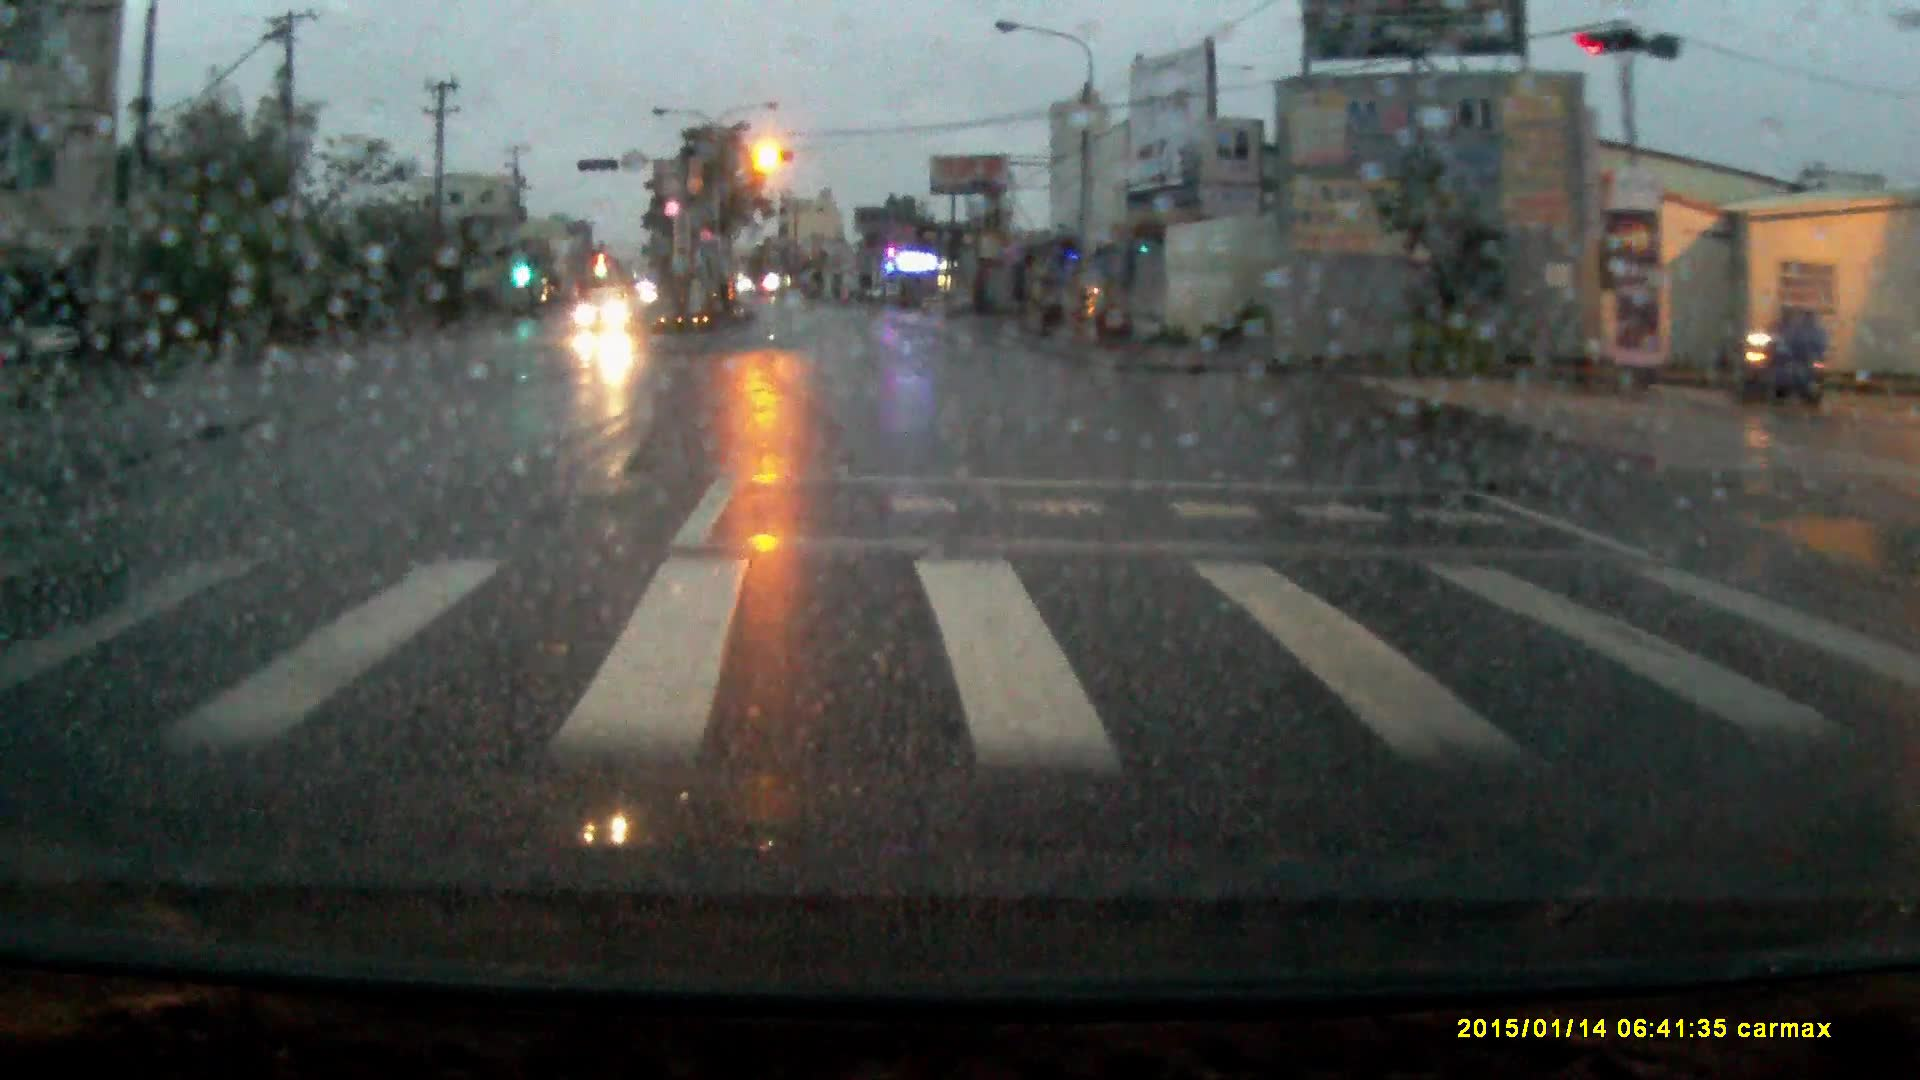rider: (1735, 294, 1834, 414)
vehicle: (574, 293, 637, 337)
